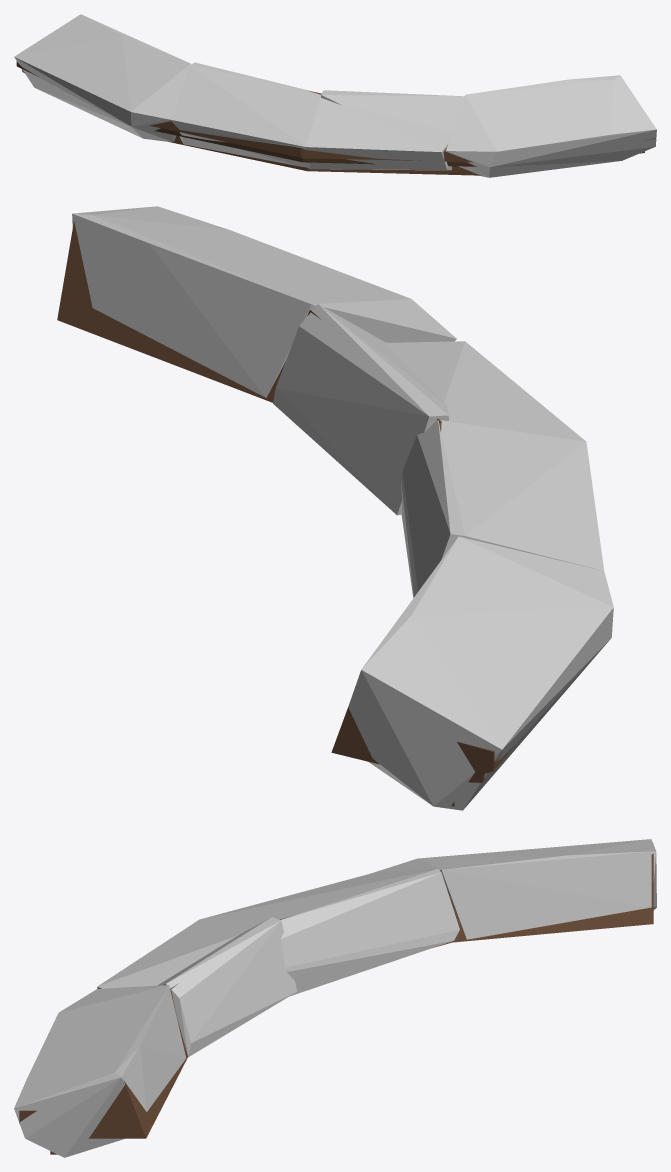
Rendered from SM_Bld_Roof_Trim_Round_01.fbx.
3 views of the same model, one above another, from view 1: azimuth 30°, elevation 25°; view 2: azimuth 150°, elevation 25°; view 3: azimuth 270°, elevation 25° (orthographic). The views are drawn at different scales.
Parts seen in each view (by area): view 1: SM_Bld_Roof_Trim_Round_01_ConvexHulls, SM_Bld_Roof_Trim_Round_01; view 2: SM_Bld_Roof_Trim_Round_01_ConvexHulls, SM_Bld_Roof_Trim_Round_01; view 3: SM_Bld_Roof_Trim_Round_01_ConvexHulls, SM_Bld_Roof_Trim_Round_01.
Part boxes in pixels (x1=…): SM_Bld_Roof_Trim_Round_01_ConvexHulls: x1=14, y1=14, x2=656, y2=177; SM_Bld_Roof_Trim_Round_01: x1=16, y1=61, x2=656, y2=175; SM_Bld_Roof_Trim_Round_01_ConvexHulls: x1=72, y1=206, x2=613, y2=810; SM_Bld_Roof_Trim_Round_01: x1=57, y1=221, x2=514, y2=806; SM_Bld_Roof_Trim_Round_01_ConvexHulls: x1=14, y1=839, x2=656, y2=1157; SM_Bld_Roof_Trim_Round_01: x1=19, y1=843, x2=653, y2=1154.
Size of the model in its own units: 294 by 294 by 42.68.
Materials: 2 (1 with a texture image).
